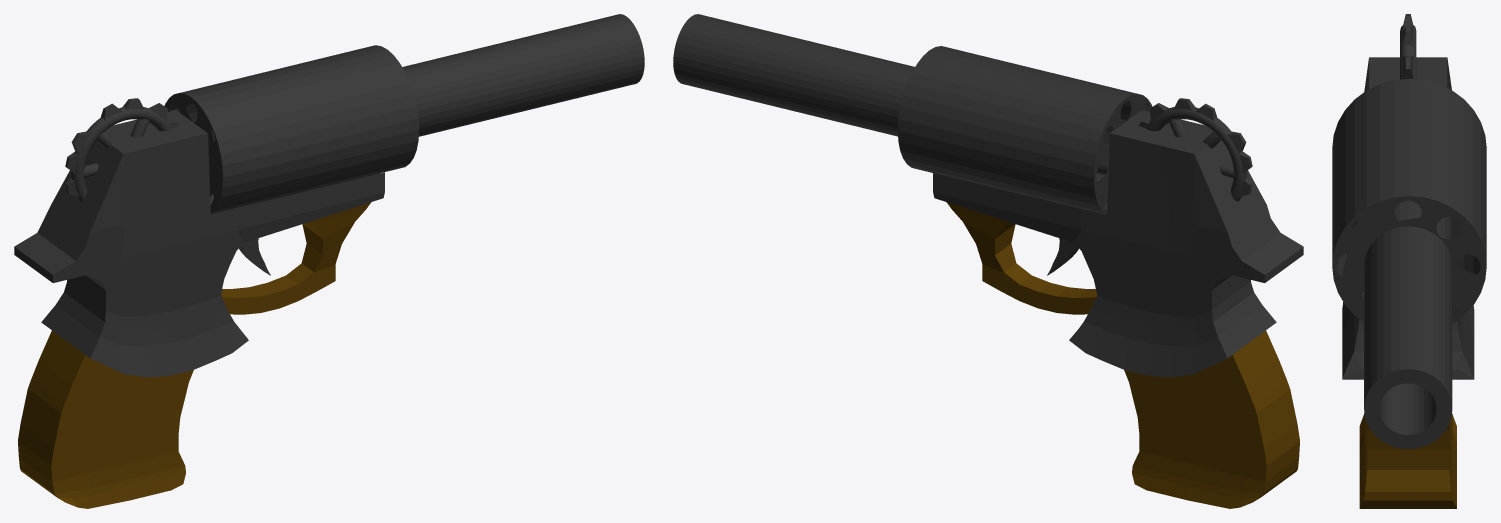
The model's file is PISTOLA DEFINITIVO.fbx.
3 renders of one model, left to right at view 1: azimuth 30°, elevation 25°; view 2: azimuth 150°, elevation 25°; view 3: azimuth 270°, elevation 25°, orthographic. The views are drawn at different scales.
Parts seen in each view (by area): view 1: Cube.001, Cylinder.001, Cube, Cylinder, Cube.002, Torus; view 2: Cube.001, Cylinder.001, Cube, Cylinder, Cube.002, Torus; view 3: Cylinder.001, Cylinder, Cube, Cube.001, Torus, Cube.004, Cube.006.
Part boxes in pixels (x1,y1,x2,y2): Cube.001: (14,110,384,377); Cylinder.001: (164,45,419,213); Cube: (18,330,193,508); Cylinder: (402,14,644,136); Cube.002: (221,202,371,314); Torus: (70,107,171,201); Cube.001: (933,110,1303,377); Cylinder.001: (897,46,1152,214); Cube: (1124,330,1299,508); Cylinder: (673,14,914,136); Cube.002: (946,202,1097,314); Torus: (1146,107,1247,201); Cylinder.001: (1332,78,1486,323); Cylinder: (1364,200,1452,449); Cube: (1359,413,1456,508); Cube.001: (1342,57,1474,379); Torus: (1400,25,1416,79); Cube.004: (1403,56,1413,79); Cube.006: (1403,25,1413,46).
Bounding box in the file's own units: 267 × 164 × 49.19.
